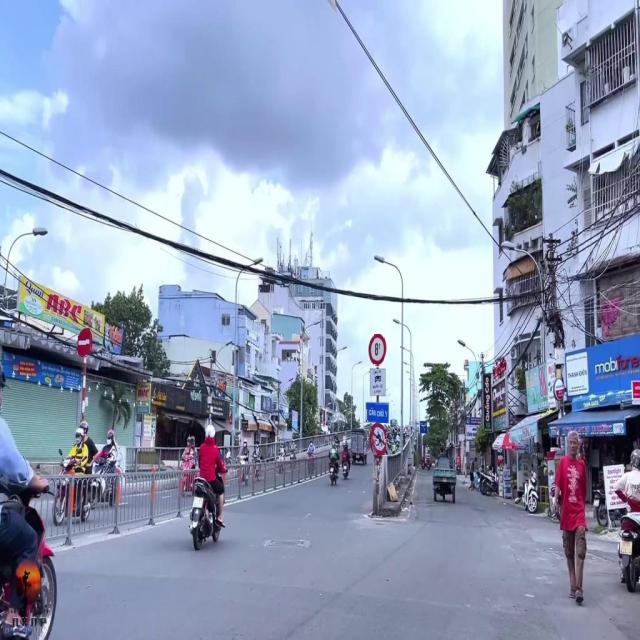cam_xe_di_nguoc_chieu: (78, 328, 92, 357)
khac: (369, 334, 387, 366), (370, 424, 386, 456), (365, 403, 388, 423), (370, 370, 385, 395), (420, 421, 427, 433)
